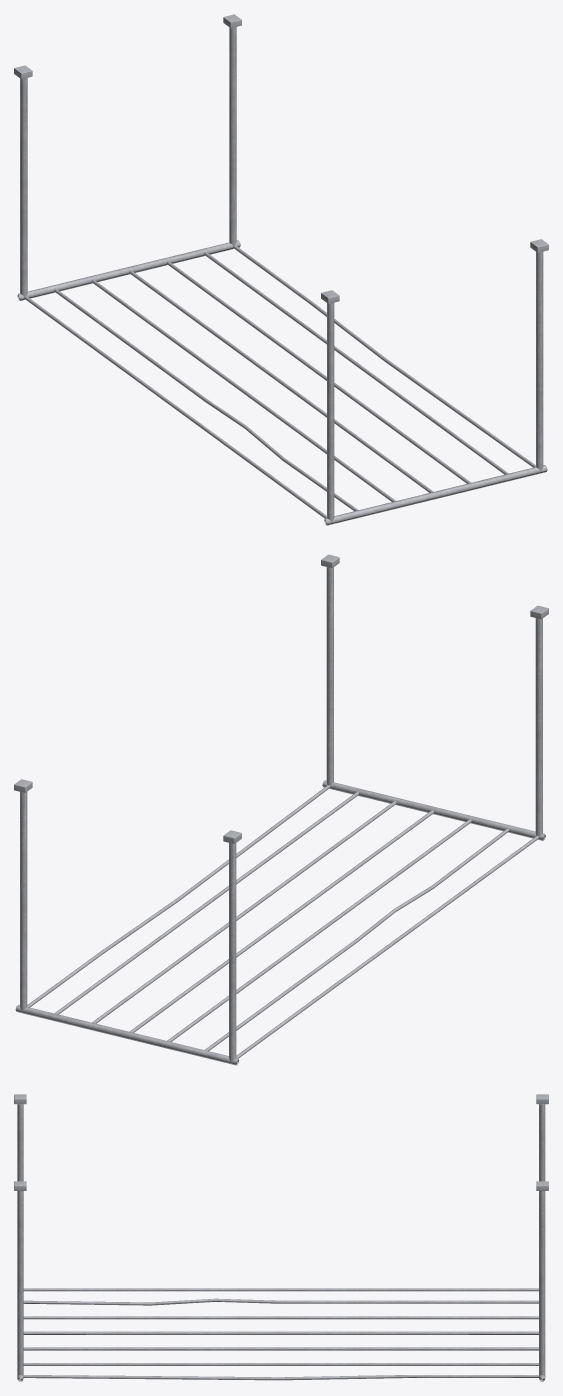
Rendered from SM_KitchenHanger.FBX.
The picture shows the model from 3 angles, top to bottom: view 1: azimuth 30°, elevation 25°; view 2: azimuth 150°, elevation 25°; view 3: azimuth 270°, elevation 25°; orthographic projection. The views are drawn at different scales.
Parts seen in each view (by area): view 1: SM_KitchenHanger; view 2: SM_KitchenHanger; view 3: SM_KitchenHanger.
Boxes of the visible parts, x1,y1,x2,y2 form: SM_KitchenHanger: [14, 14, 548, 525]; SM_KitchenHanger: [14, 554, 548, 1065]; SM_KitchenHanger: [14, 1094, 548, 1381].
Bounding box in the file's own units: 68.78 × 68.66 × 169.
